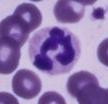N: (29, 26, 81, 75)
